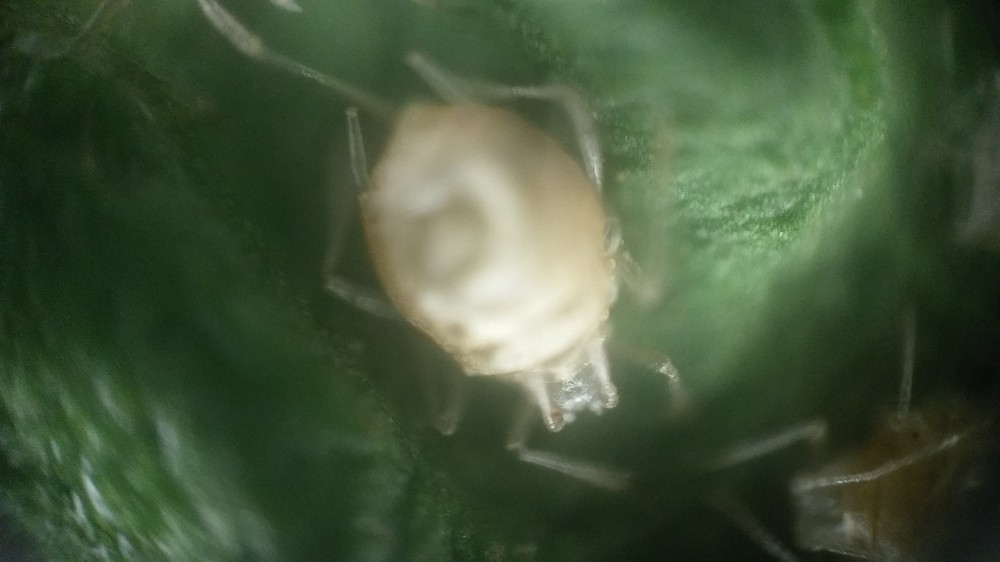Pulgon: (293, 55, 749, 522)
